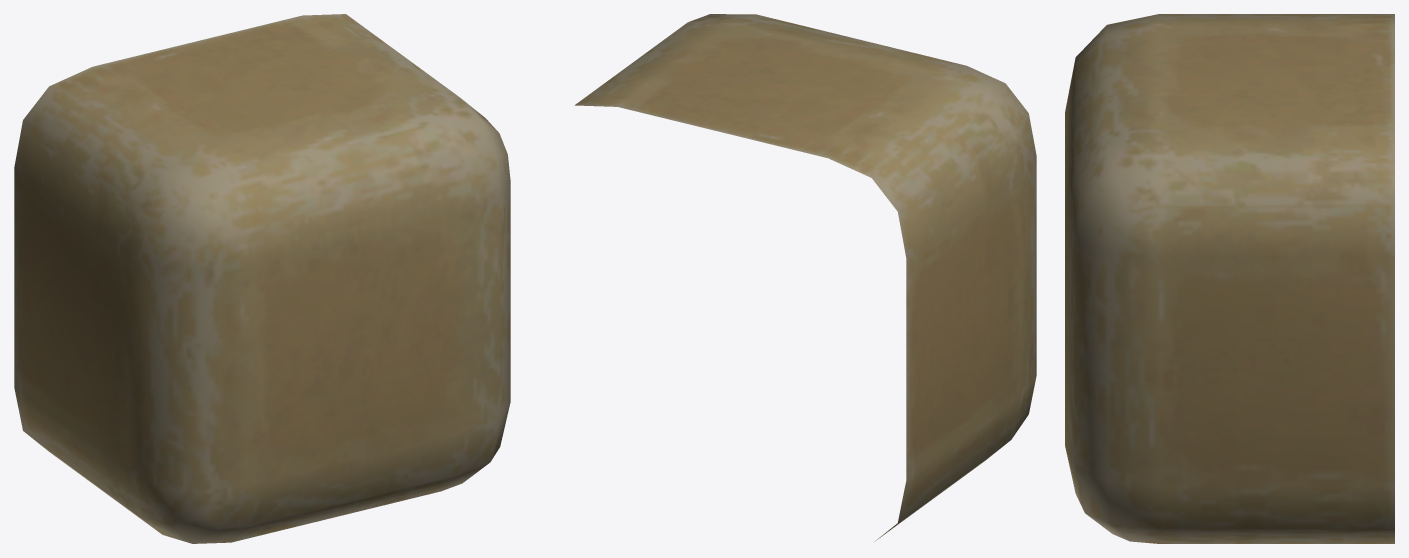
The model's file is SM_electric_props_03.glb.
3 renders of one model, left to right at view 1: azimuth 30°, elevation 25°; view 2: azimuth 150°, elevation 25°; view 3: azimuth 270°, elevation 25°, orthographic. The views are drawn at different scales.
Parts seen in each view (by area): view 1: SM_electric_props_03; view 2: SM_electric_props_03; view 3: SM_electric_props_03.
Part boxes in pixels (left/top/right/bottom): SM_electric_props_03: left=14, top=14, right=510, bottom=543; SM_electric_props_03: left=574, top=14, right=1036, bottom=541; SM_electric_props_03: left=1065, top=14, right=1394, bottom=543.
Bounding box in the file's own units: 0.4 × 0.4 × 0.3.
1 material, 1 textured.
